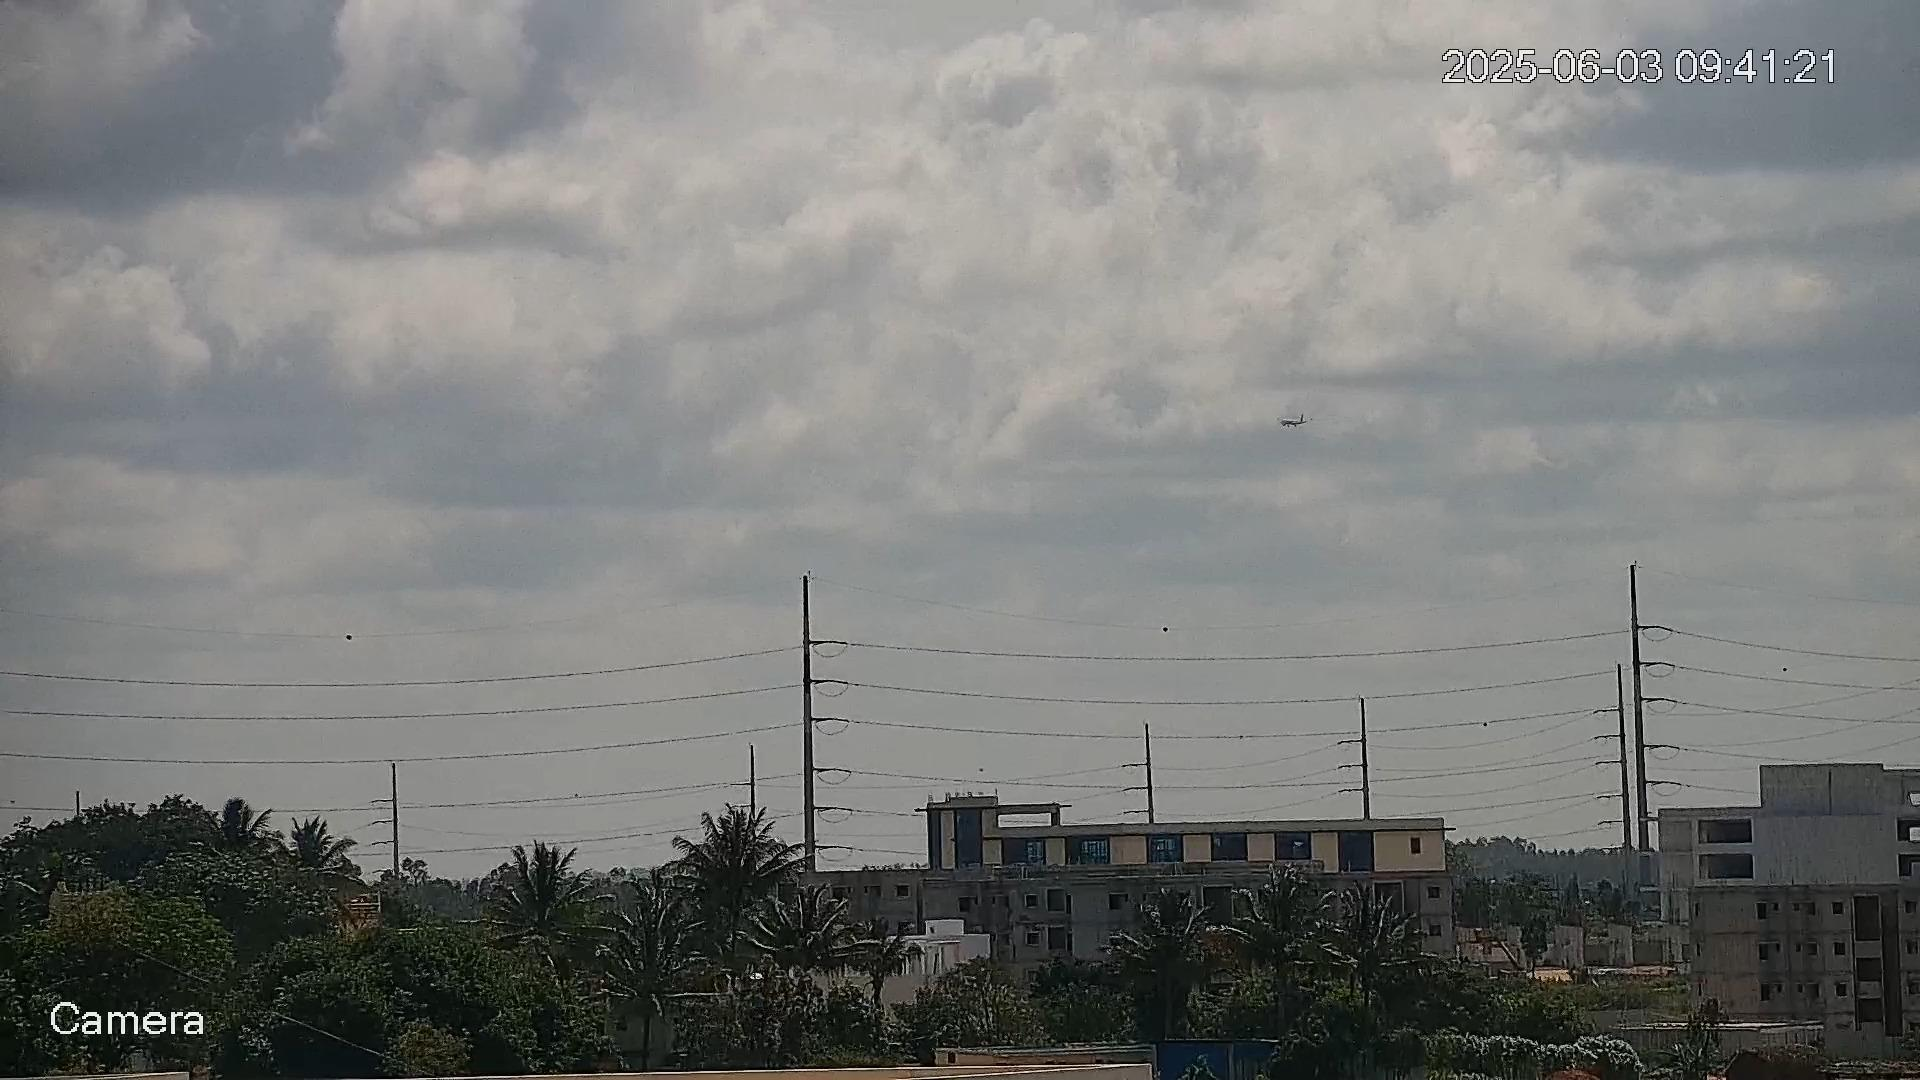Aircraft: (1278, 409, 1323, 434)
